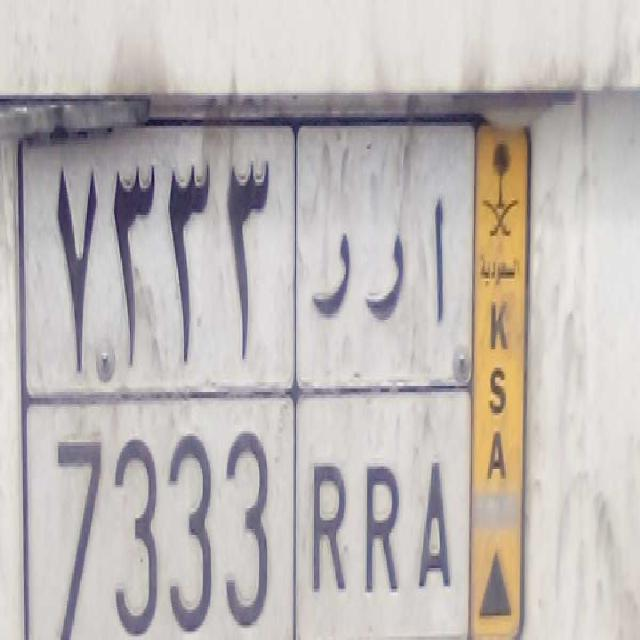license_plate: (23, 391, 475, 640)
